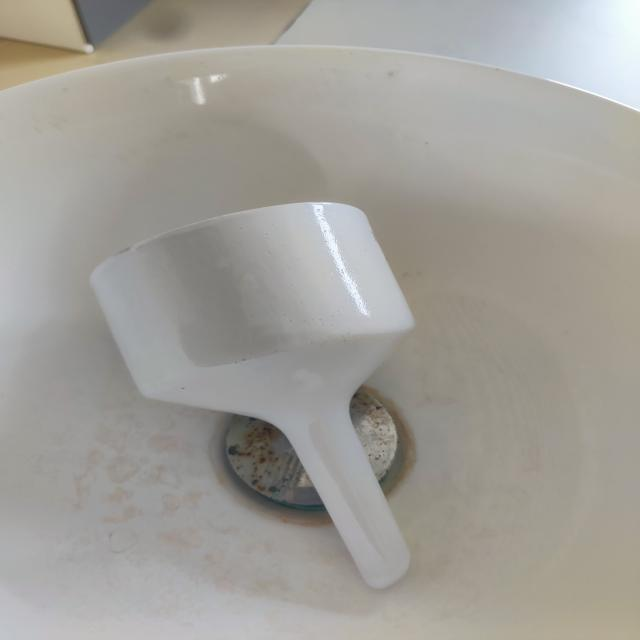Buchner_Funnel: (41, 158, 493, 608)
